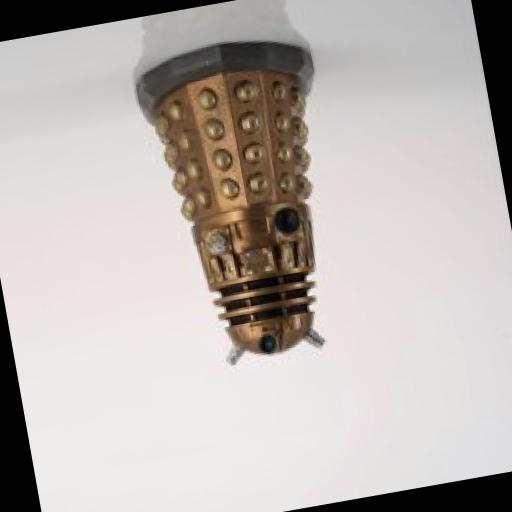dalek: (127, 30, 372, 386)
